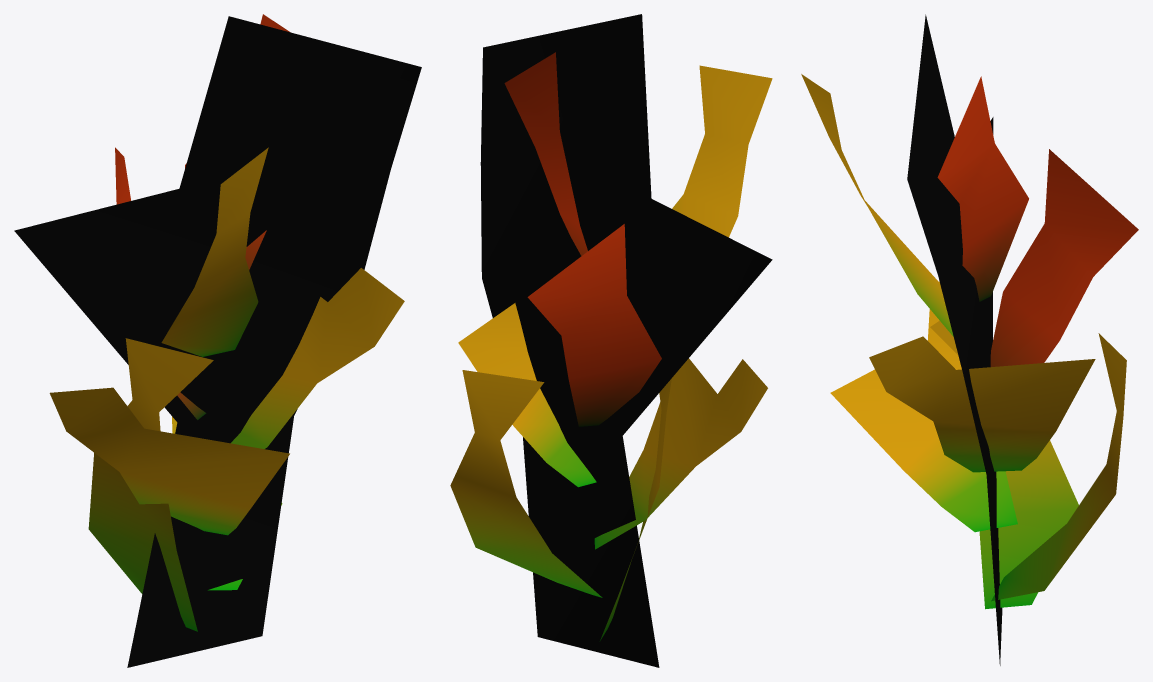
Rendered from Var4Hi16.fbx.
3 views of the same model, side by side, from view 1: azimuth 30°, elevation 25°; view 2: azimuth 150°, elevation 25°; view 3: azimuth 270°, elevation 25° (orthographic). The views are drawn at different scales.
Visible parts, largest first — view 1: bend1; view 2: bend1; view 3: bend1.
Part boxes in pixels (<box>): bend1: <box>14,14,421,667</box>; bend1: <box>450,14,772,667</box>; bend1: <box>801,14,1138,665</box>.
Size of the model in its own units: 1.31 by 2.31 by 1.14.
